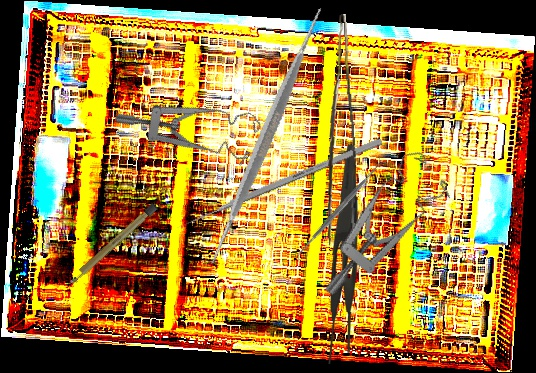Dressing Forceps: (321, 145, 361, 364)
Pusher: (175, 136, 383, 232)
Scalpel Handle: (65, 201, 159, 288)
Spatula Surgical: (134, 3, 398, 269), (288, 155, 390, 265)
Speculum: (287, 144, 468, 297), (113, 54, 269, 191)
Tissue Forceps: (313, 14, 362, 246)
